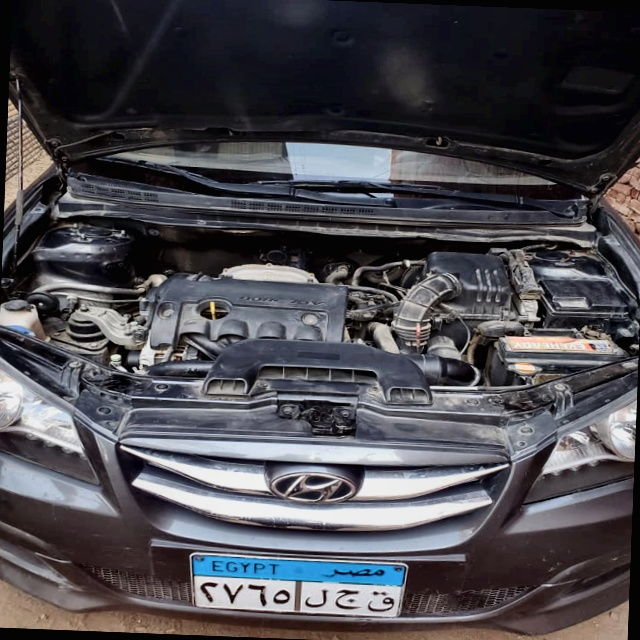License Plate: (186, 552, 410, 622)
